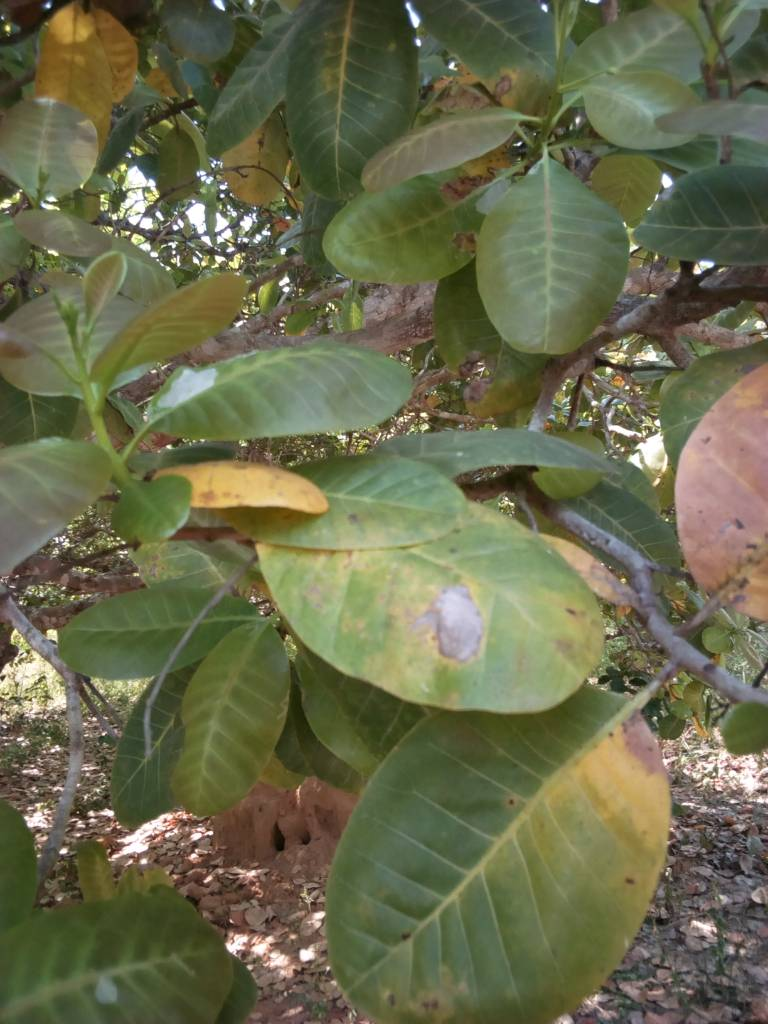Bactériose: (347, 707, 663, 1024), (288, 532, 621, 707), (686, 386, 768, 603)
